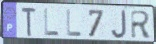7: (87, 9, 105, 39)
J: (110, 9, 128, 40)
L: (65, 8, 83, 38), (43, 8, 60, 37)
R: (129, 10, 153, 40)
T: (20, 6, 38, 38)
